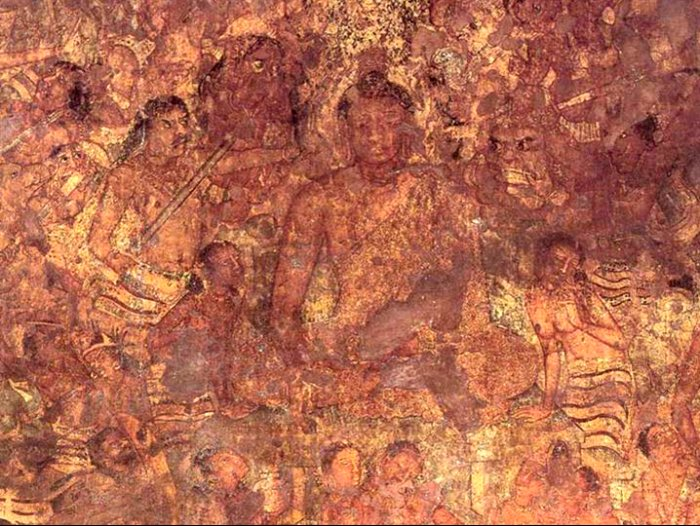Mara Vijay Painting: (4, 2, 695, 516), (141, 29, 640, 499)
